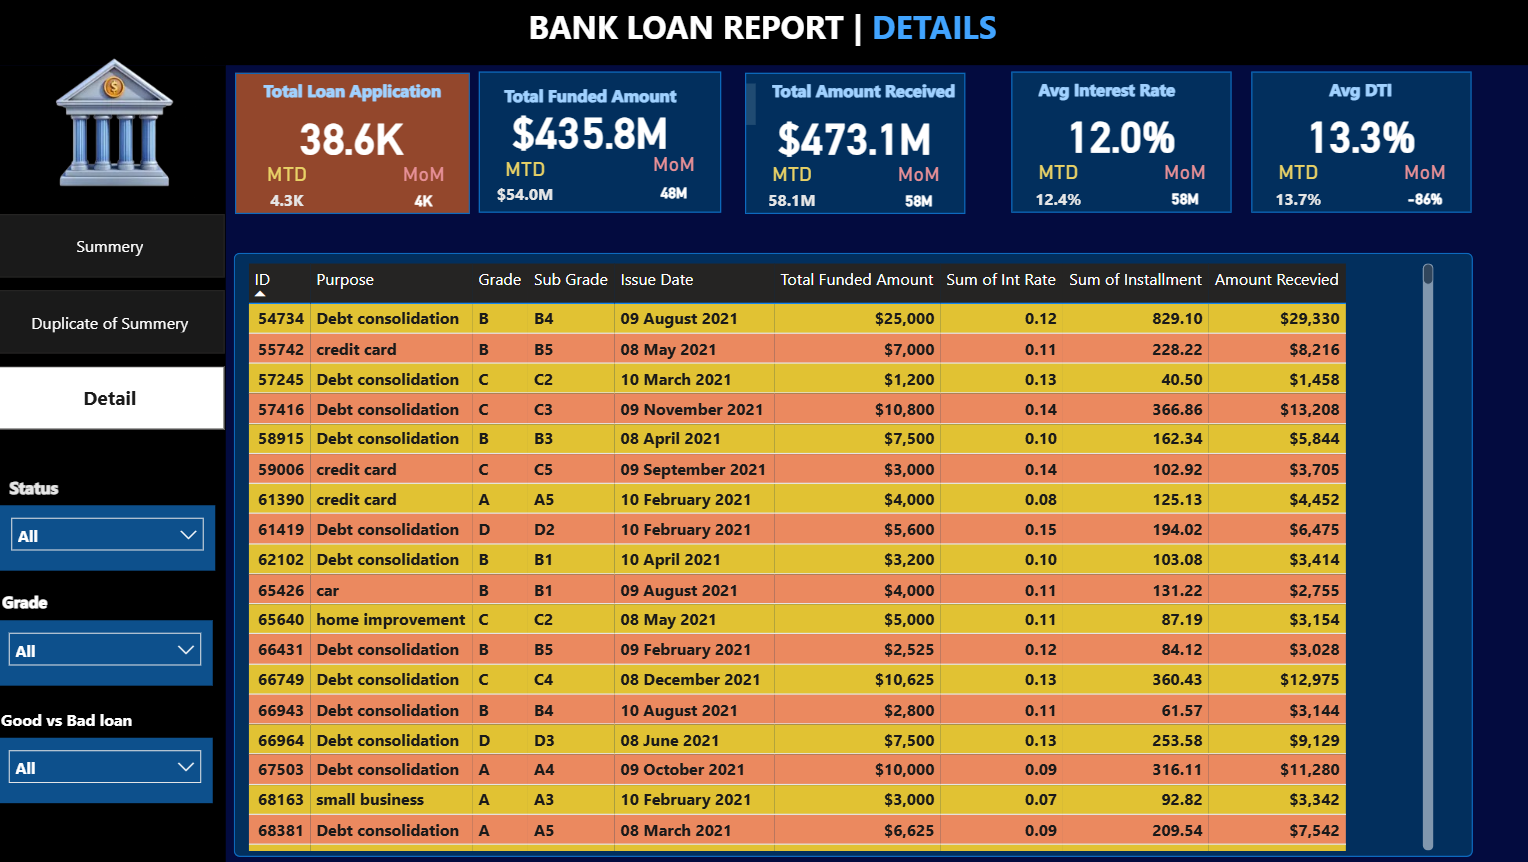

The page's visual inventory and layout, read from the dashboard file:
{"tool":"powerbi","page":{"name":"Detail","canvas":[1280,720],"ordinal":2},"visuals":[{"type":"shape","box":[0,0,1280.2,55],"z":0},{"type":"shape","box":[402.2,60.3,201.6,117.4],"z":1000},{"type":"card","fields":{"Values":["financial_loan.Total funded amount"]},"box":[375.2,85.8,239.5,45.3],"z":1000,"group":"g2"},{"type":"textbox","box":[438.4,0,446.5,54.7],"z":2000},{"type":"textbox","box":[387.6,65.5,250,45.3],"z":2000,"group":"g2"},{"type":"shape","box":[845.2,60.3,183.3,117.4],"z":3000,"group":"g4"},{"type":"shape","box":[1044.9,60.5,183.3,117.4],"z":3000,"group":"g5"},{"type":"shape","box":[623.8,61.3,183.3,117.4],"z":3000,"group":"g3"},{"type":"group","id":"g1","title":"Group 1","box":[191.9,61.6,244.2,123.3],"z":3000},{"type":"shape","box":[198.9,61.6,195.3,117.4],"z":3000,"group":"g1"},{"type":"card","title":"MTD","fields":{"Values":["financial_loan.MTD funded amount"]},"box":[400.5,131.2,81.4,46.5],"z":3000,"group":"g2"},{"type":"group","id":"g2","title":"Group 1","box":[375.2,65.5,262.4,115],"z":4000},{"type":"card","fields":{"Values":["financial_loan.AVG interest rate"]},"box":[838.7,87,195.3,50],"z":4000,"group":"g4"},{"type":"card","fields":{"Values":["financial_loan.AVG DTI"]},"box":[1038.4,87.2,195.3,50],"z":4000,"group":"g5"},{"type":"card","fields":{"Values":["financial_loan.Total amount recevied"]},"box":[617.3,88,195.3,50],"z":4000,"group":"g3"},{"type":"card","fields":{"Values":["financial_loan.Total Loan Application"]},"box":[191.9,88.3,208.1,50],"z":4000,"group":"g1"},{"type":"card","title":"MoM","fields":{"Values":["financial_loan.PMTD funded amount"]},"box":[527.8,127,73.3,53.5],"z":4000,"group":"g2"},{"type":"textbox","box":[862.7,60.3,205.1,81.4],"z":5000,"group":"g4"},{"type":"textbox","box":[1062.4,60.5,205.1,81.4],"z":5000,"group":"g5"},{"type":"group","id":"g3","title":"Group 1","box":[617.3,61.3,227.6,123.7],"z":5000},{"type":"textbox","box":[641.3,61.3,205.1,81.4],"z":5000,"group":"g3"},{"type":"textbox","box":[217.5,61.6,218.6,81.4],"z":5000,"group":"g1"},{"type":"group","id":"g4","title":"Group 1","box":[838.7,60.3,227.6,123.7],"z":6000},{"type":"card","title":"MTD","fields":{"Values":["financial_loan.MTD AVg interest rate"]},"box":[851.7,133.8,65.9,43.9],"z":6000,"group":"g4"},{"type":"card","title":"MTD","fields":{"Values":["financial_loan.MTD AVG DTI"]},"box":[1051.4,134,65.9,43.9],"z":6000,"group":"g5"},{"type":"card","title":"MTD","fields":{"Values":["financial_loan.MTD total amount recieved"]},"box":[630.3,134.8,65.9,43.9],"z":6000,"group":"g3"},{"type":"card","title":"MTD","fields":{"Values":["financial_loan.MTD Loan Application"]},"box":[207.9,135.1,70,43.9],"z":6000,"group":"g1"},{"type":"group","id":"g5","title":"Group 1","box":[1038.4,60.5,227.9,123.3],"z":7000},{"type":"card","title":"MoM","fields":{"Values":["financial_loan.MoM total amount recieved"]},"box":[957.3,133.8,64.5,49.4],"z":7000,"group":"g4"},{"type":"card","title":"MoM","fields":{"Values":["financial_loan.MoM AVG DTI"]},"box":[1157,134,64.5,49.4],"z":7000,"group":"g5"},{"type":"card","title":"MoM","fields":{"Values":["financial_loan.MoM total amount recieved"]},"box":[735.9,134.8,64.5,49.4],"z":7000,"group":"g3"},{"type":"card","title":"MoM","fields":{"Values":["financial_loan.MoM loan application"]},"box":[321.7,135.1,68.6,49.4],"z":7000,"group":"g1"},{"type":"shape","box":[0,54.7,191.9,665.1],"z":8000},{"type":"slicer","fields":{"Values":["financial_loan.address_state"]},"box":[2.8,420.7,180.2,54.7],"z":9000},{"type":"textbox","box":[2.8,391.6,67.4,29.1],"z":10000},{"type":"slicer","fields":{"Values":["financial_loan.grade"]},"box":[1.2,516.7,180.2,54.7],"z":11000},{"type":"textbox","box":[1.2,487.7,67.4,29.1],"z":12000},{"type":"slicer","fields":{"Values":["financial_loan.Good vs Bad loan"]},"box":[1.2,614,180.2,54.7],"z":13000},{"type":"shape","box":[198.8,210.5,1030.2,502.3],"z":14000},{"type":"textbox","box":[0,584.9,141.9,29.1],"z":15000},{"type":"textbox","box":[0,300,141.9,34.9],"z":16000},{"type":"tableEx","fields":{"Values":["financial_loan.id","financial_loan.purpose","financial_loan.grade","financial_loan.sub_grade","financial_loan.issue_date","financial_loan.Total funded amount","Sum(financial_loan.int_rate)","Sum(financial_loan.installment)","financial_loan.Total amount recevied"]},"box":[204.7,215.1,996.5,497.7],"z":17000},{"type":"image","box":[0,0,198.8,205.8],"z":18000},{"type":"pageNavigator","box":[0,179.1,191.9,181.4],"z":19000}]}

Visuals, with their boxes on the page's 1280x720 design canvas (x1, y1, x2, y2). These are canvas units, not pixel positions in the 1528x862 screenshot, which may show the page scaled, cropped or inside an application window:
shape: 0/0/1280/55
shape: 402/60/604/178
card - financial_loan.Total funded amount: 375/86/615/131
textbox: 438/0/885/55
textbox: 388/66/638/111
shape: 845/60/1028/178
shape: 1045/60/1228/178
shape: 624/61/807/179
"Group 1" group: 192/62/436/185
shape: 199/62/394/179
"MTD" card: 400/131/482/178
"Group 1" group: 375/66/638/180
card - financial_loan.AVG interest rate: 839/87/1034/137
card - financial_loan.AVG DTI: 1038/87/1234/137
card - financial_loan.Total amount recevied: 617/88/813/138
card - financial_loan.Total Loan Application: 192/88/400/138
"MoM" card: 528/127/601/180
textbox: 863/60/1068/142
textbox: 1062/60/1268/142
"Group 1" group: 617/61/845/185
textbox: 641/61/846/143
textbox: 218/62/436/143
"Group 1" group: 839/60/1066/184
"MTD" card: 852/134/918/178
"MTD" card: 1051/134/1117/178
"MTD" card: 630/135/696/179
"MTD" card: 208/135/278/179
"Group 1" group: 1038/60/1266/184
"MoM" card: 957/134/1022/183
"MoM" card: 1157/134/1222/183
"MoM" card: 736/135/800/184
"MoM" card: 322/135/390/184
shape: 0/55/192/720
slicer - financial_loan.address_state: 3/421/183/475
textbox: 3/392/70/421
slicer - financial_loan.grade: 1/517/181/571
textbox: 1/488/69/517
slicer - financial_loan.Good vs Bad loan: 1/614/181/669
shape: 199/210/1229/713
textbox: 0/585/142/614
textbox: 0/300/142/335
tableEx - financial_loan.id x financial_loan.purpose: 205/215/1201/713
image: 0/0/199/206
pageNavigator: 0/179/192/360
